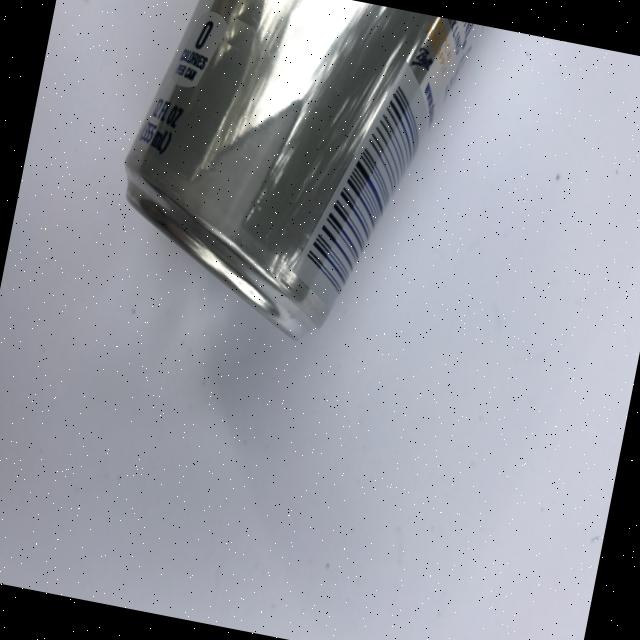metal: (96, 0, 487, 366)
